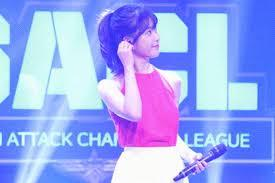earphone: (124, 39, 133, 47)
